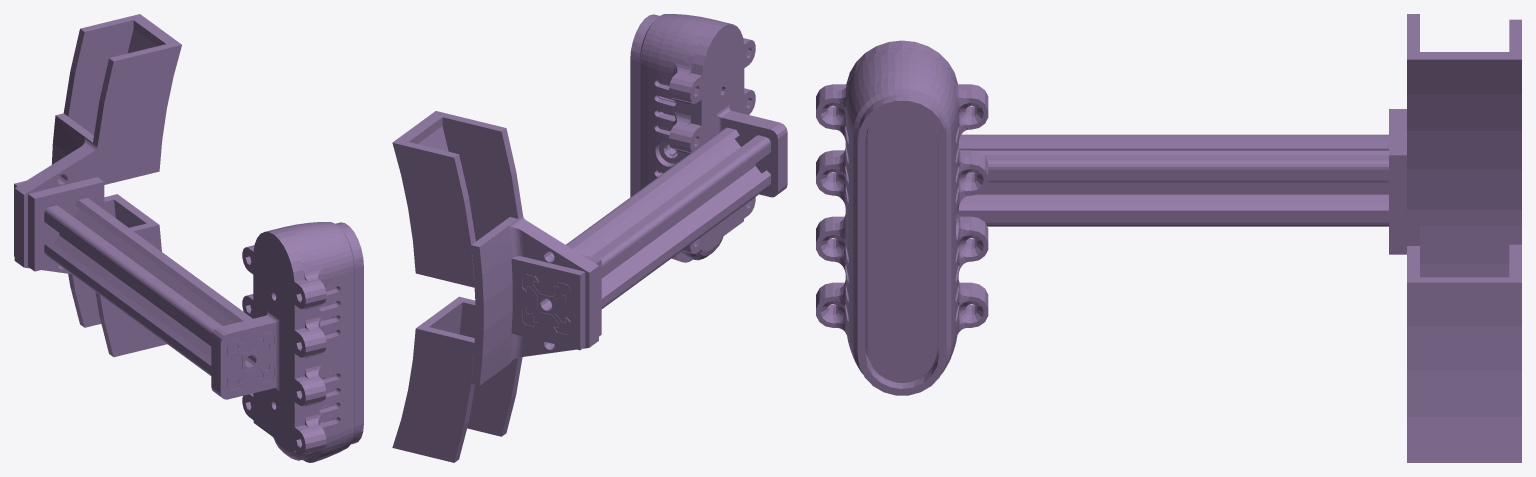
Rendered from Camera_Link.glb.
3 renders of one model, left to right at view 1: azimuth 30°, elevation 25°; view 2: azimuth 150°, elevation 25°; view 3: azimuth 270°, elevation 25°, orthographic. The views are drawn at different scales.
Size of the model in its own units: 0.0683 by 0.122 by 0.1935.
